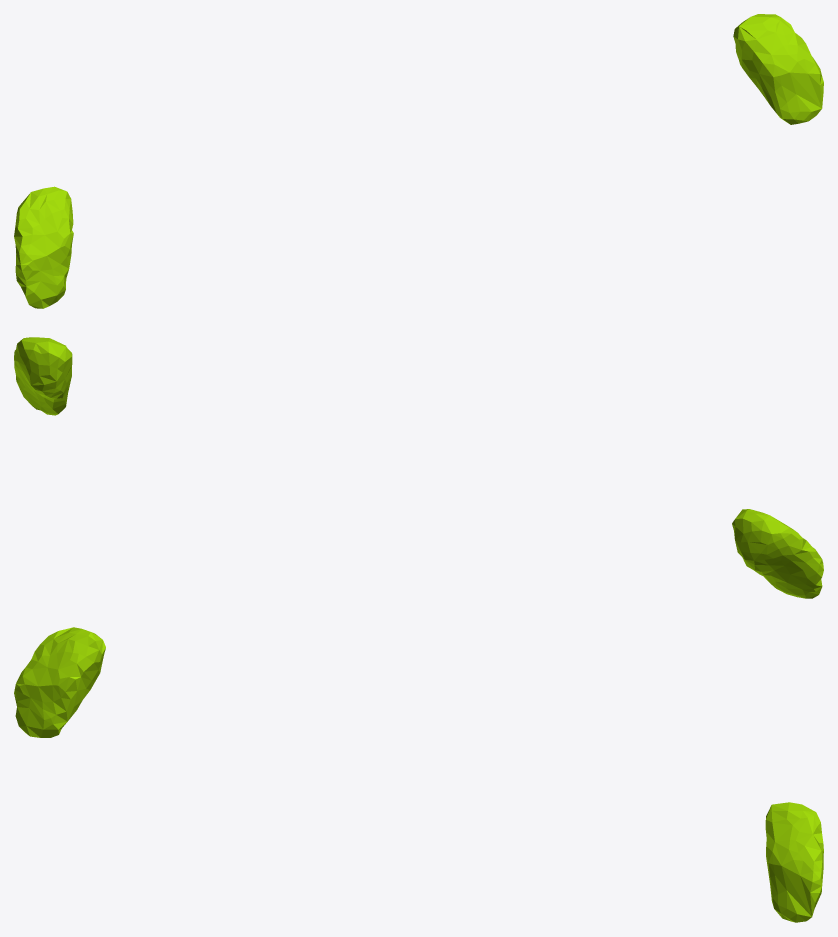
The model's file is 184-PFOp-parietal area PF, opercular part-('0.7294', '1.0000', '0.0000').obj.
3 renders of one model, top to bottom at view 1: azimuth 30°, elevation 25°; view 2: azimuth 150°, elevation 25°; view 3: azimuth 330°, elevation 25°, orthographic.
Bounding box in the file's own units: 345 × 39.55 × 24.42.
